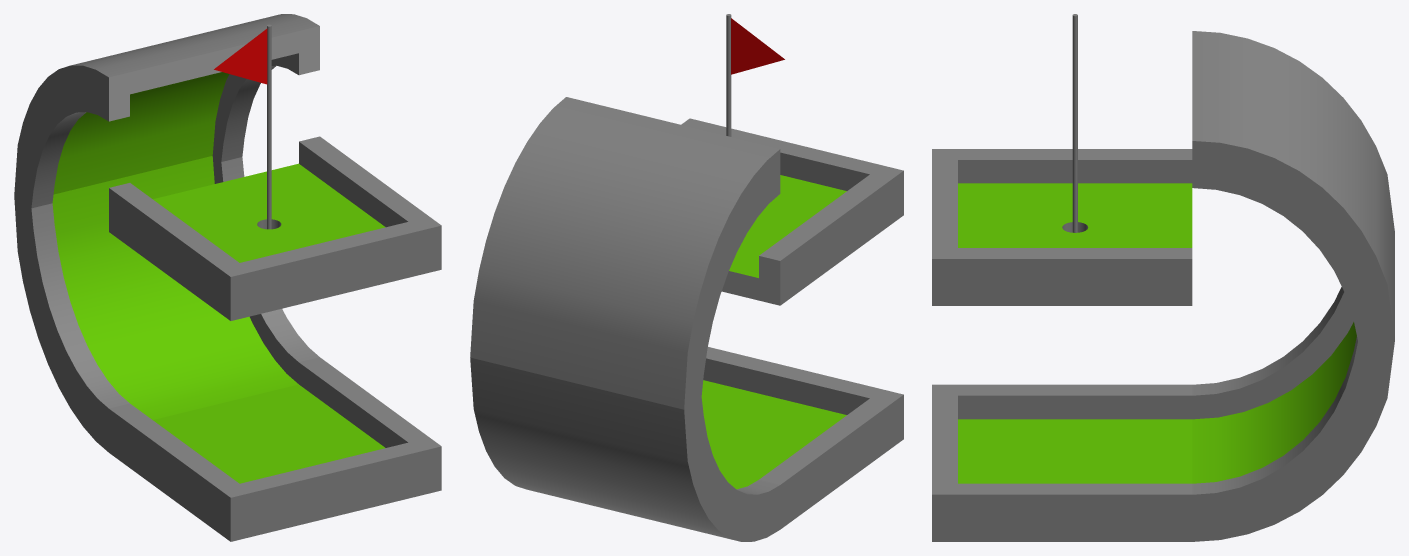
Rendered from course4.fbx.
3 views of the same model, side by side, from view 1: azimuth 30°, elevation 25°; view 2: azimuth 150°, elevation 25°; view 3: azimuth 270°, elevation 25° (orthographic). The views are drawn at different scales.
Parts seen in each view (by area): view 1: middle12, start2, end, middle13, flag2, flag4; view 2: middle13, middle12, start2, end, flag2, flag4; view 3: start2, end, middle13, middle12, flag4.
Part boxes in pixels (x1,y1,x2,y2): middle12: [14, 156, 319, 452]; start2: [109, 357, 441, 541]; end: [109, 136, 441, 320]; middle13: [14, 14, 319, 208]; flag2: [214, 28, 267, 84]; flag4: [215, 24, 271, 229]; middle13: [470, 97, 780, 409]; middle12: [470, 357, 780, 541]; start2: [701, 347, 903, 529]; end: [681, 118, 903, 305]; flag2: [731, 18, 784, 74]; flag4: [726, 14, 783, 136]; start2: [932, 384, 1192, 541]; end: [932, 149, 1192, 305]; middle13: [1192, 31, 1394, 341]; middle12: [1192, 287, 1394, 541]; flag4: [1072, 14, 1077, 232].
Bounding box in the file's own units: 10 × 20 × 17.78.
